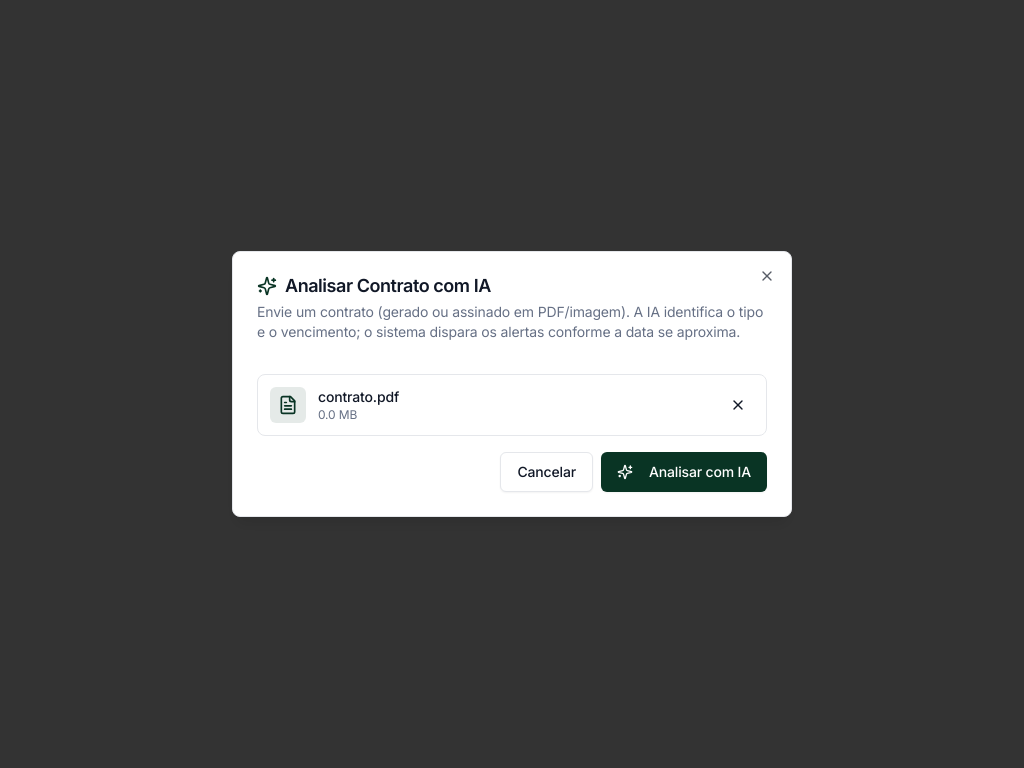
it: sem ninguém com o telefone ou o CPF, o nome é só sugestão e a parte é cadastrada com o CPF
Earlier steps of the test are not shown.
Later steps or results of the test are not shown.
Click the button "Analisar com IA".
click(684, 472)  # box [601, 452, 767, 492]
(page scrolled)
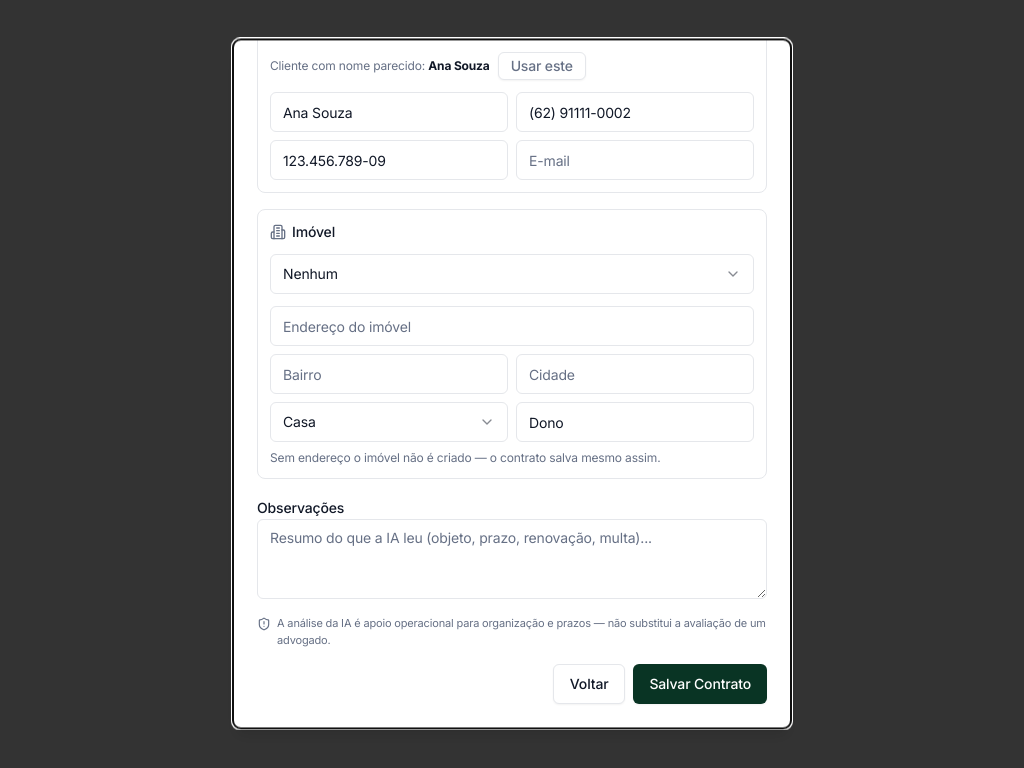
Expected: the text "Cliente com nome parecido: Ana Souza" is shown, [270, 58, 490, 74]
